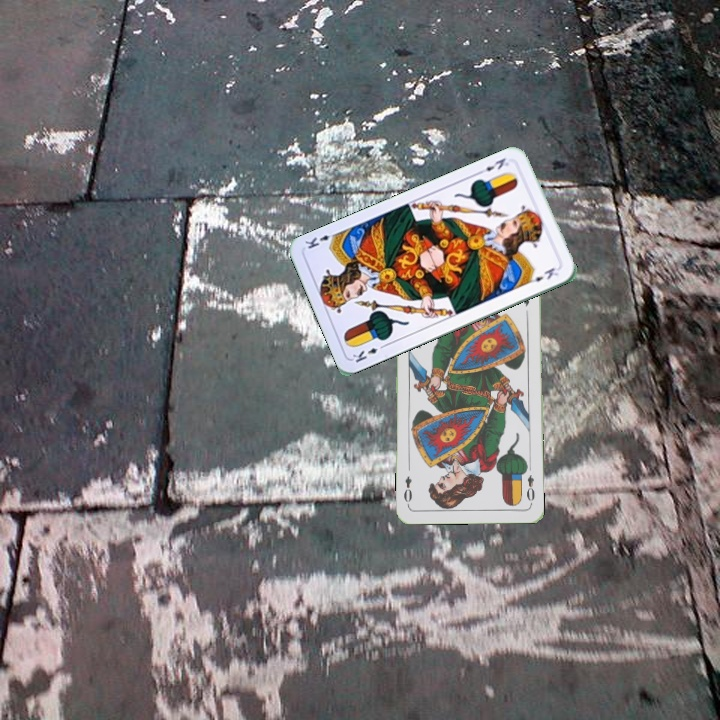EK: (348, 340, 388, 365), (475, 154, 511, 177)
EO: (523, 471, 537, 507)
